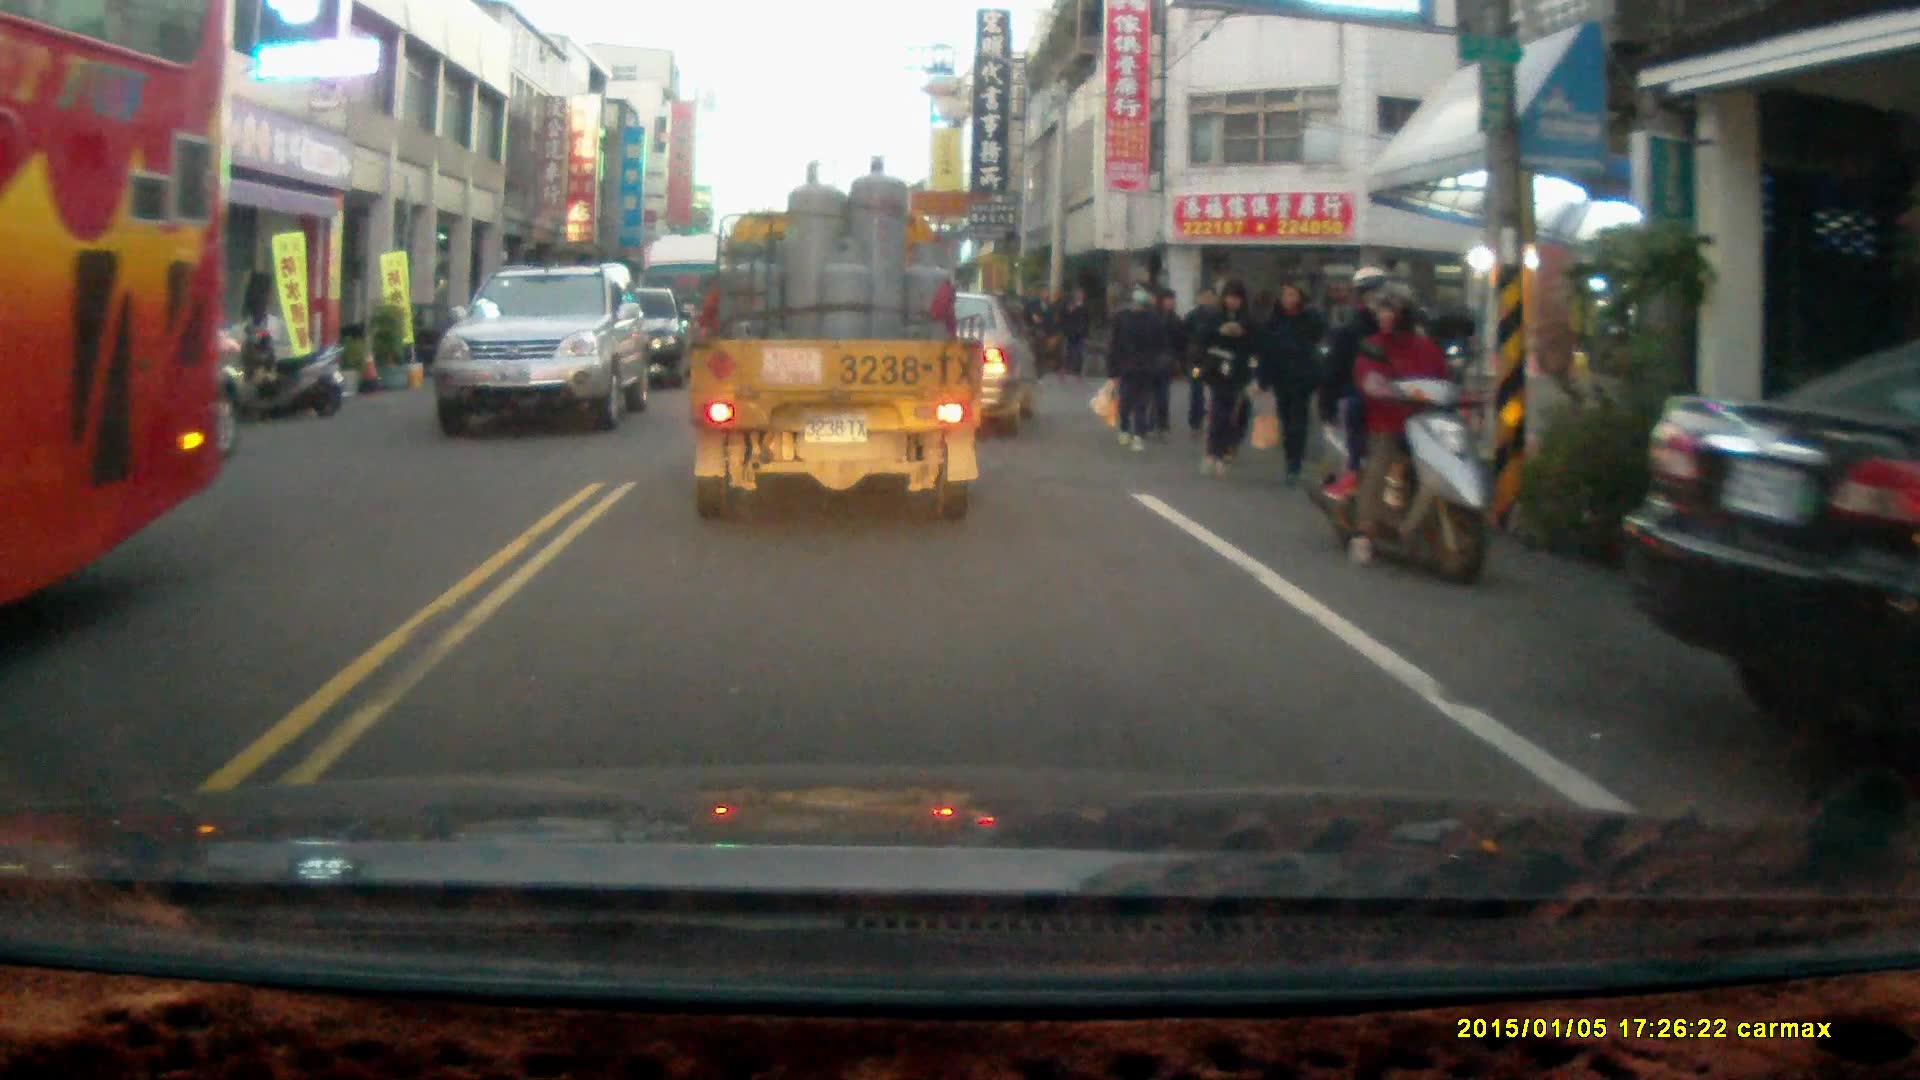pedestrian: (1250, 277, 1330, 477), (1195, 281, 1255, 475), (1104, 280, 1161, 455), (1177, 283, 1237, 435), (1138, 286, 1185, 436), (1025, 281, 1061, 380), (1058, 280, 1093, 380)
rider: (1299, 257, 1492, 574)
vehicle: (1, 7, 235, 612), (1635, 348, 1920, 752), (682, 151, 984, 524), (438, 263, 654, 434), (808, 285, 1046, 437)
